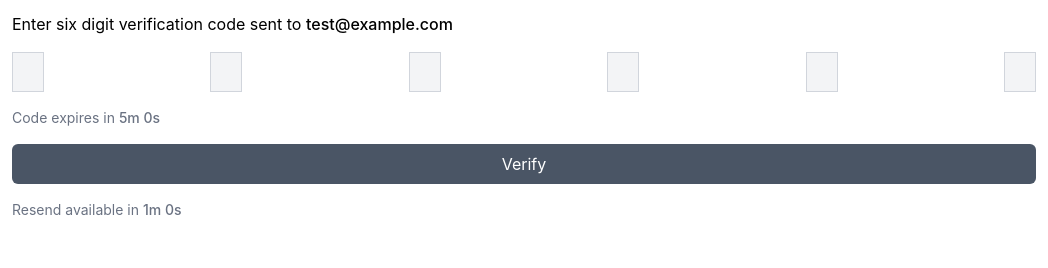
Test case: VerificationStep › shows max attempts error and expires code
This screenshot has width=1048, height=268.
Type "1" into the 1st field.
click(28, 72); type("1")  # box [12,52,44,92]
Type "2" into the 2nd field.
click(226, 72); type("2")  # box [210,52,242,92]
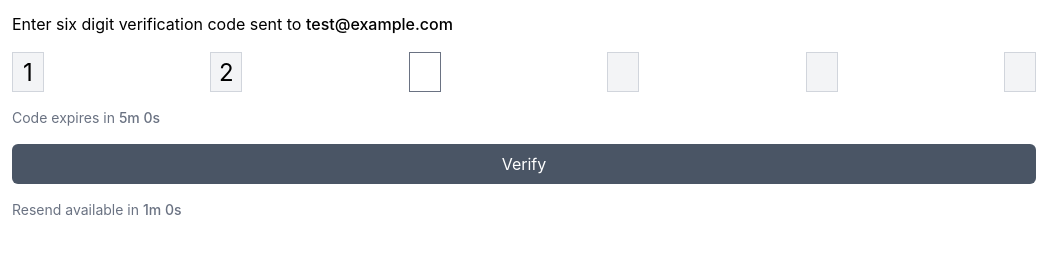
Type "3" into the 3rd field.
click(425, 72); type("3")  # box [409,52,441,92]
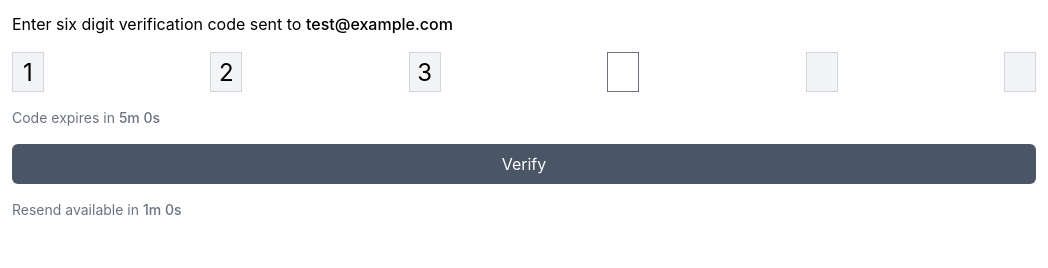
Type "4" into the 4th field.
click(623, 72); type("4")  # box [607,52,639,92]
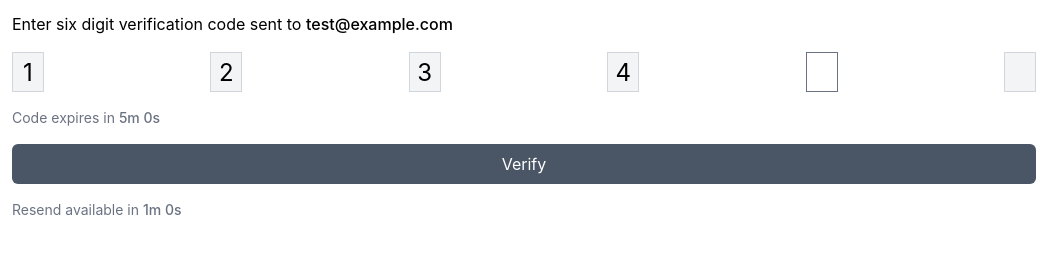
Type "5" into the 5th field.
click(822, 72); type("5")  # box [806,52,838,92]
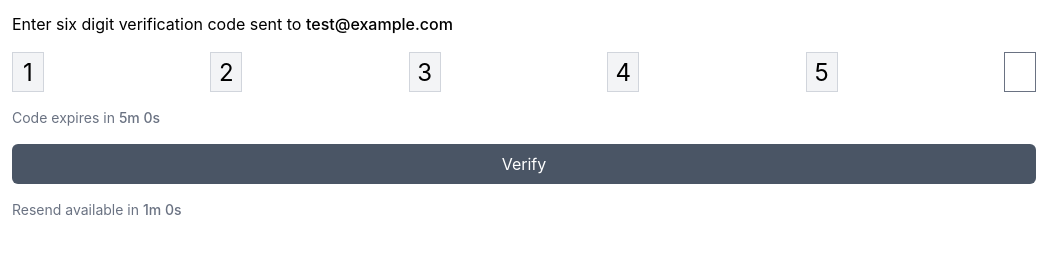
Type "6" into the 6th field.
click(1020, 72); type("6")  # box [1004,52,1036,92]
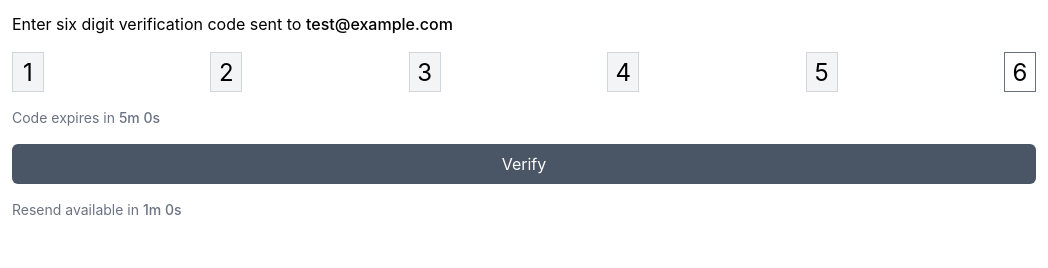
Click the button "Verify".
click(524, 164)  # box [12,144,1036,184]
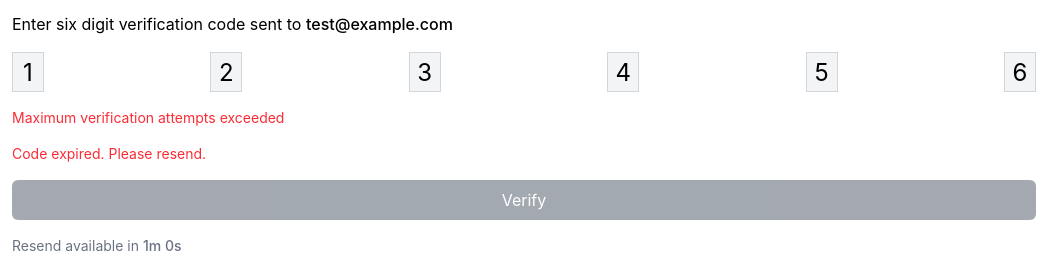
Check: the text "Maximum verification attempts exceeded" is shown, box [12,109,284,126]
Check: the text "Code expired. Please resend." is shown, box [12,145,206,162]
